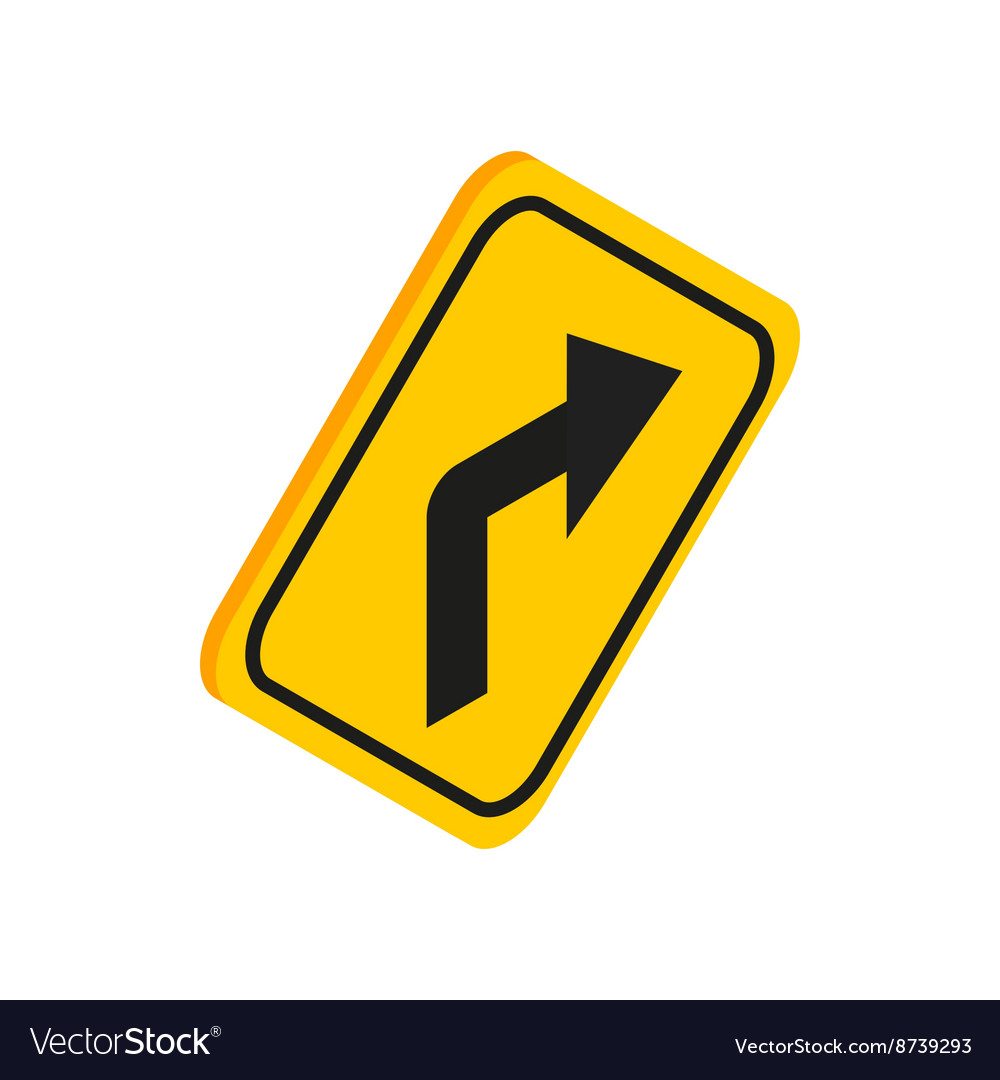right: (197, 144, 804, 861)
